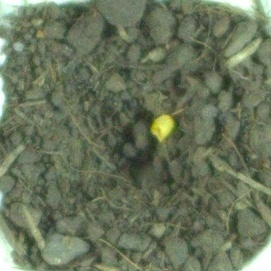pepper seed: (60, 41, 237, 184)
